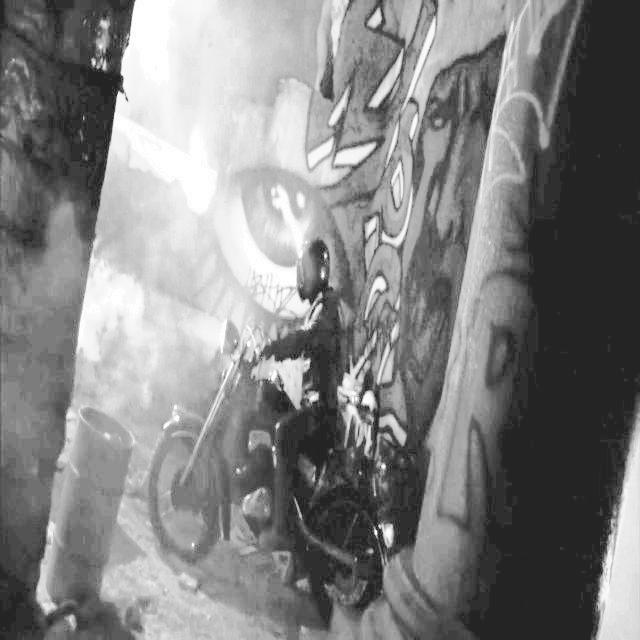Motorcycle: (149, 294, 430, 614)
